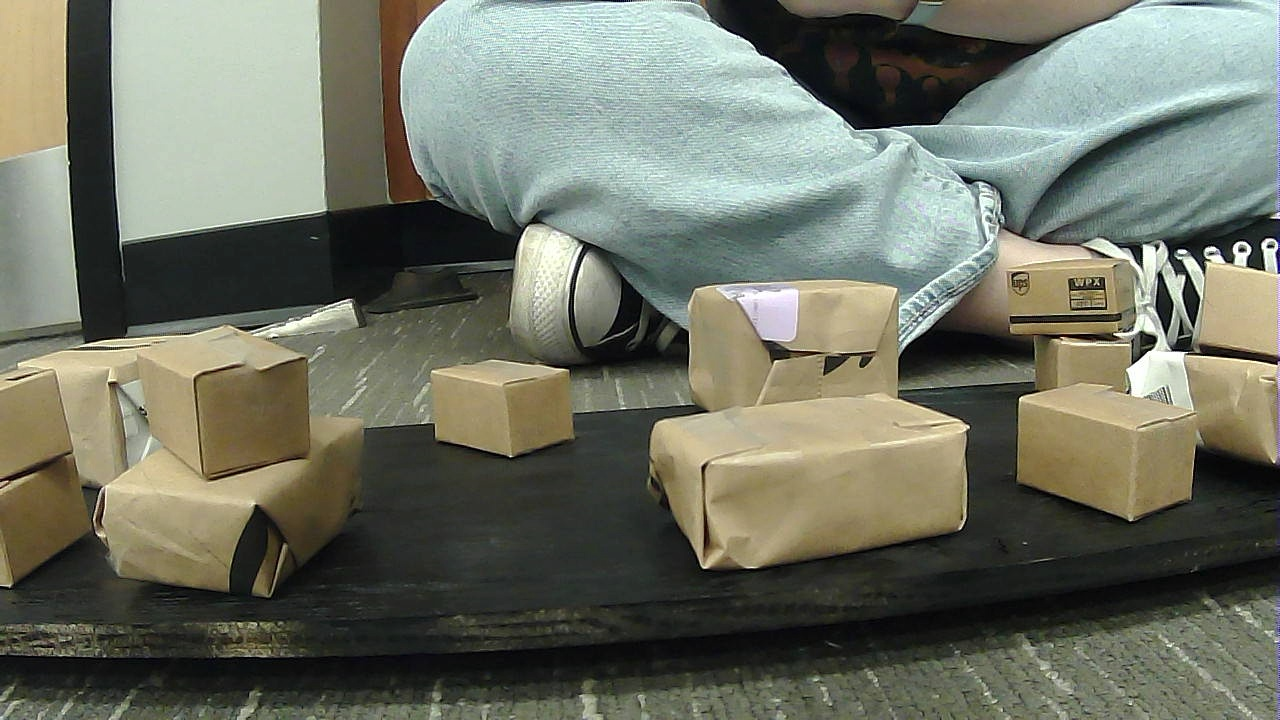package: (640, 395, 946, 558), (112, 408, 363, 586), (672, 280, 914, 410), (1007, 377, 1199, 528), (132, 324, 318, 473), (34, 337, 181, 472), (425, 348, 575, 466), (1148, 340, 1276, 465), (2, 476, 93, 594), (1028, 337, 1140, 427), (997, 266, 1137, 333), (1181, 267, 1276, 360), (2, 368, 77, 472)
stacked: (648, 275, 977, 585), (108, 321, 353, 602), (1170, 260, 1270, 471), (7, 365, 97, 587), (991, 263, 1153, 385)
